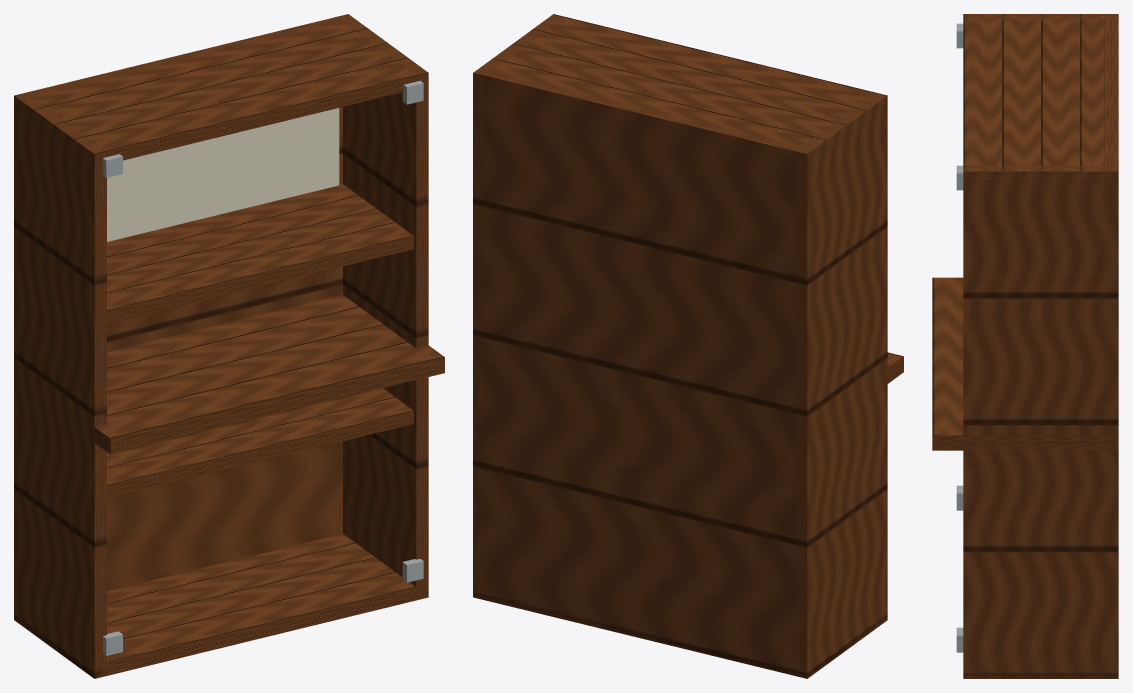
Rendered from prlShelf.glb.
3 views of the same model, side by side, from view 1: azimuth 30°, elevation 25°; view 2: azimuth 150°, elevation 25°; view 3: azimuth 270°, elevation 25° (orthographic). The views are drawn at different scales.
Visible parts, largest first — view 1: kitchen-serving-hutch; view 2: kitchen-serving-hutch; view 3: kitchen-serving-hutch.
Boxes of the visible parts, box(x1,y1,x2,y2) form: kitchen-serving-hutch: box(14, 14, 444, 678); kitchen-serving-hutch: box(473, 14, 903, 678); kitchen-serving-hutch: box(932, 14, 1118, 678).
Bounding box in the file's own units: 1.2 × 1.8 × 0.5999.
3 materials, 1 textured.
